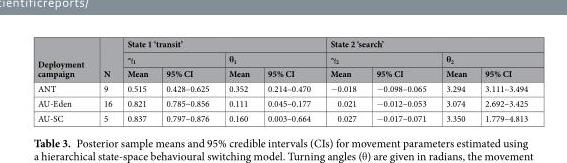table: (36, 37, 527, 123)
table column: (365, 37, 435, 123), (156, 37, 218, 123), (258, 37, 319, 123), (36, 37, 93, 123), (475, 37, 527, 123), (319, 37, 365, 123), (218, 37, 258, 123), (435, 37, 475, 123), (119, 37, 156, 123), (93, 37, 119, 123)
table column header: (36, 37, 527, 80)
table row: (36, 65, 527, 80), (36, 80, 527, 95), (36, 95, 527, 110), (36, 37, 527, 51), (36, 51, 527, 65), (36, 110, 527, 123)
table spanning cell: (319, 37, 527, 51), (119, 37, 319, 51), (36, 37, 93, 80), (319, 51, 435, 65), (218, 51, 319, 65), (119, 51, 218, 65), (435, 51, 527, 65), (93, 37, 119, 80)
